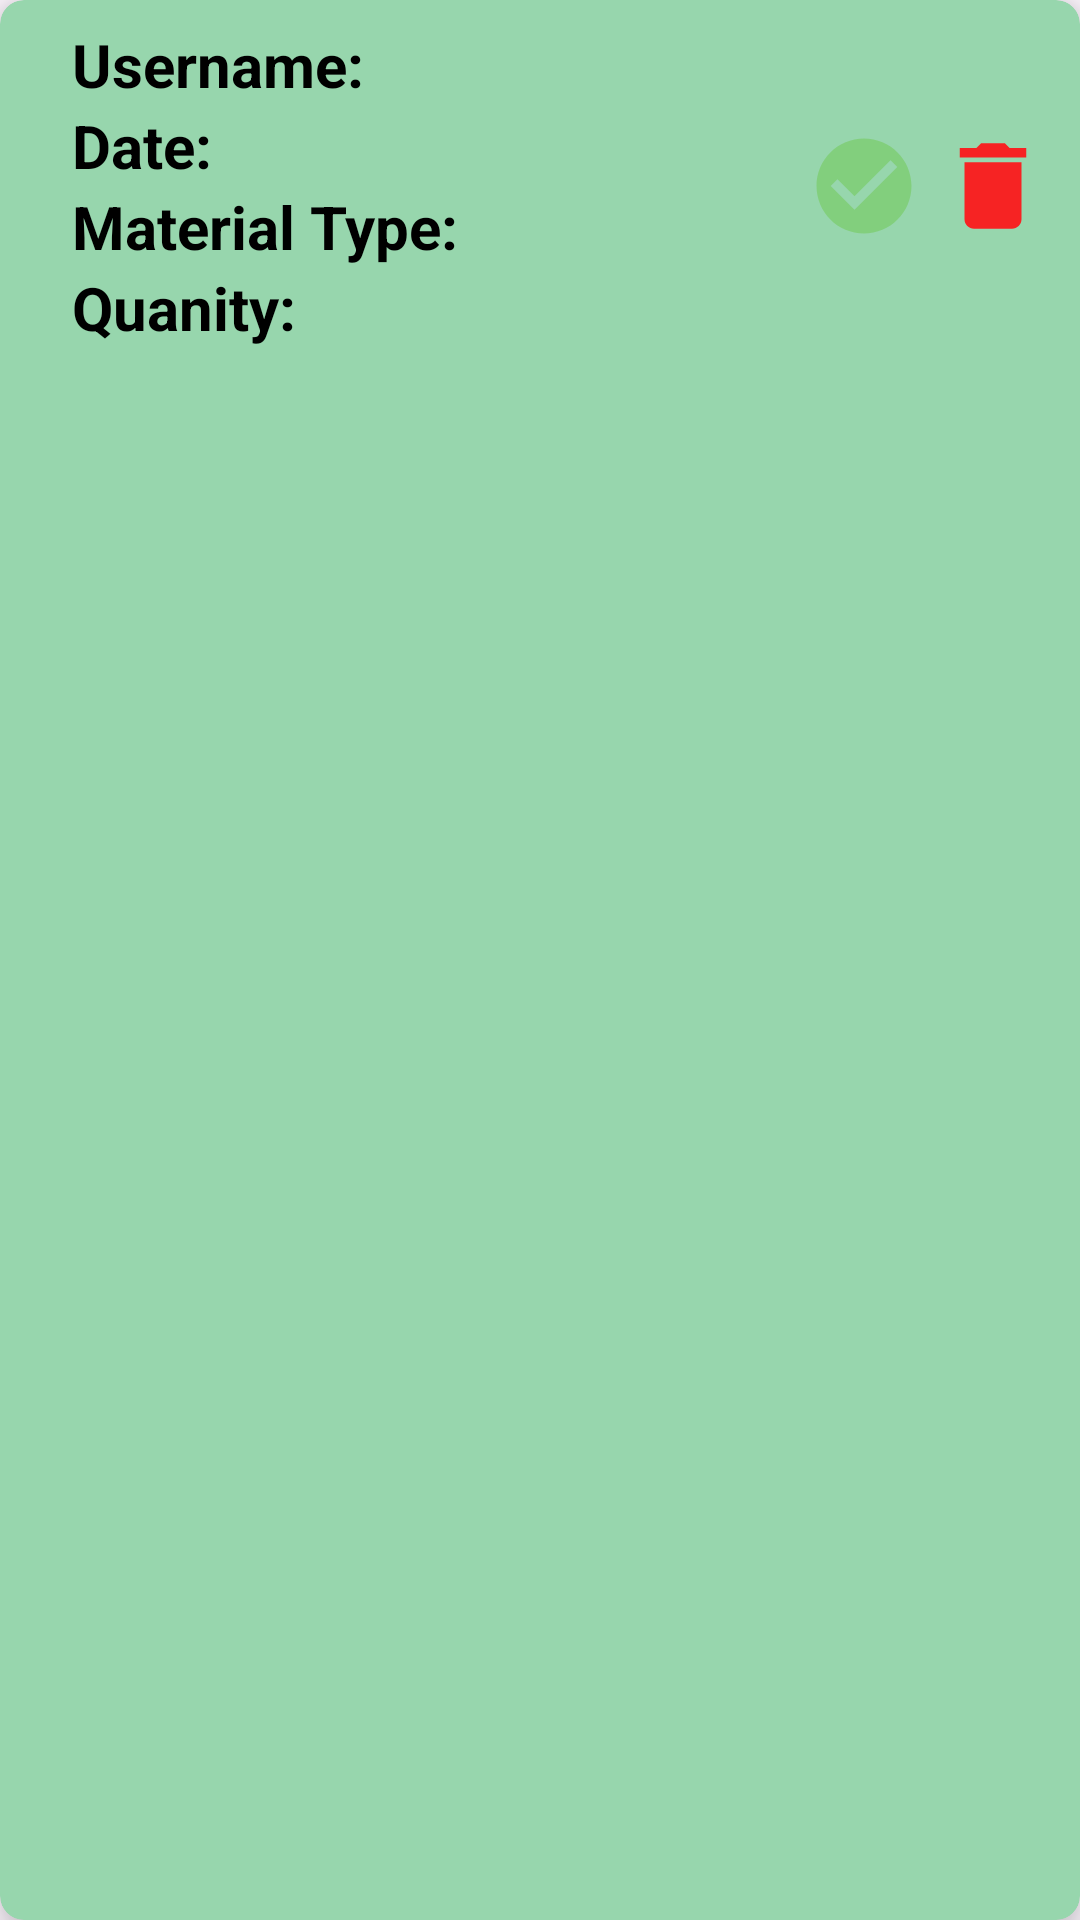

Named icons in this screenshot (1080*1920) and their centers, [x,y]:
check circle: [864,186]
delete: [993,186]
